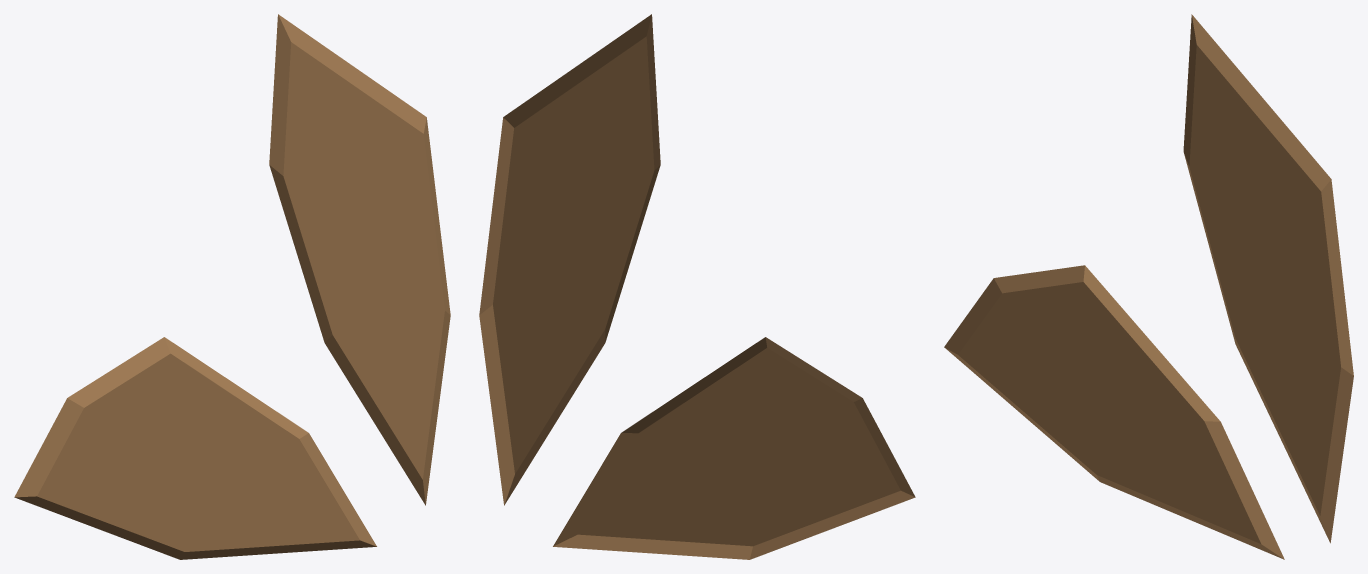
The model's file is grunge1.fbx.
3 renders of one model, left to right at view 1: azimuth 30°, elevation 25°; view 2: azimuth 150°, elevation 25°; view 3: azimuth 330°, elevation 25°, orthographic. The views are drawn at different scales.
Visible parts, largest first — view 1: Plane; view 2: Plane; view 3: Plane.
Boxes of the visible parts, box(x1,y1,x2,y2) form: Plane: box(14, 14, 450, 559); Plane: box(479, 14, 915, 559); Plane: box(944, 14, 1353, 559).
Bounding box in the file's own units: 215 × 262 × 3.37.
